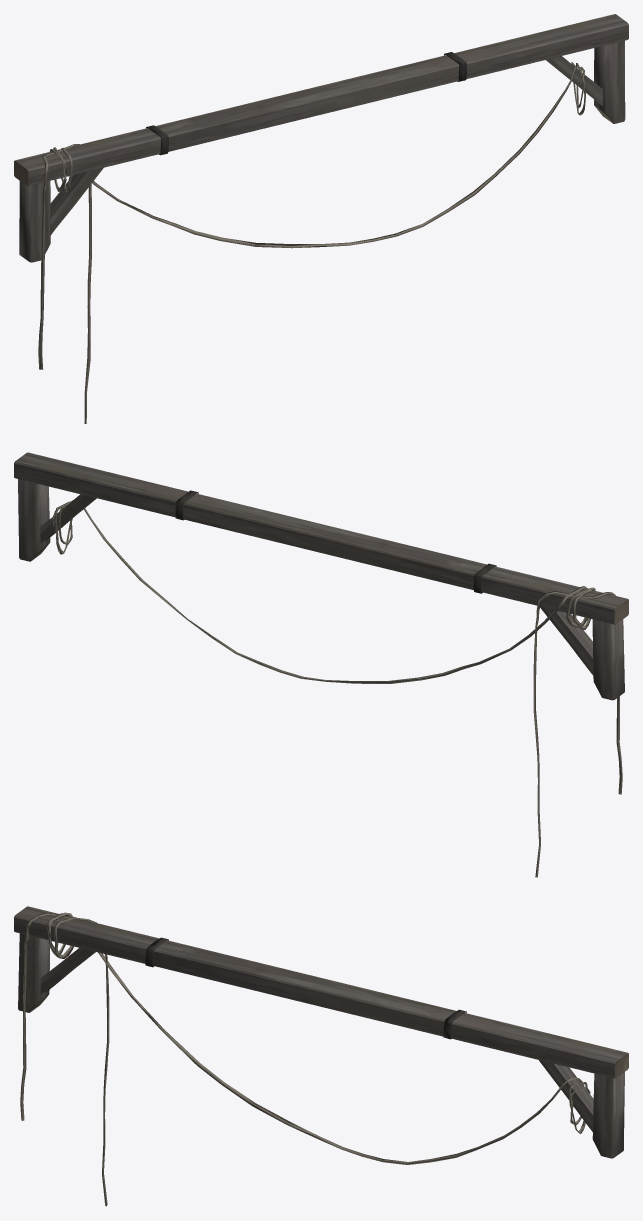
The model's file is AEG023_345out-transformed.glb.
The picture shows the model from 3 angles, top to bottom: view 1: azimuth 30°, elevation 25°; view 2: azimuth 150°, elevation 25°; view 3: azimuth 330°, elevation 25°; orthographic projection.
Visible parts, largest first — view 1: default; view 2: default; view 3: default.
Part boxes in pixels (<box>): default: <box>14,14,628,423</box>; default: <box>14,452,628,877</box>; default: <box>14,906,628,1206</box>.
Size of the model in its own units: 11.15 by 5.11 by 0.7096.
Materials: 1 (1 with a texture image).
